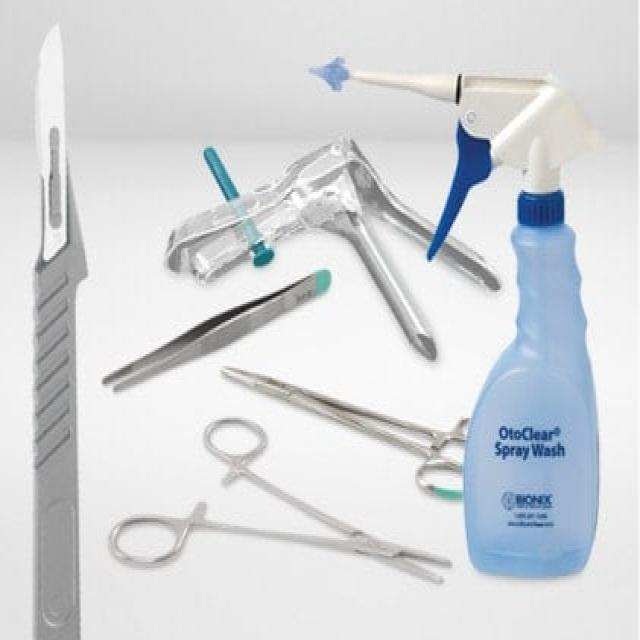B3: (103, 394, 456, 614), (214, 360, 485, 500)
